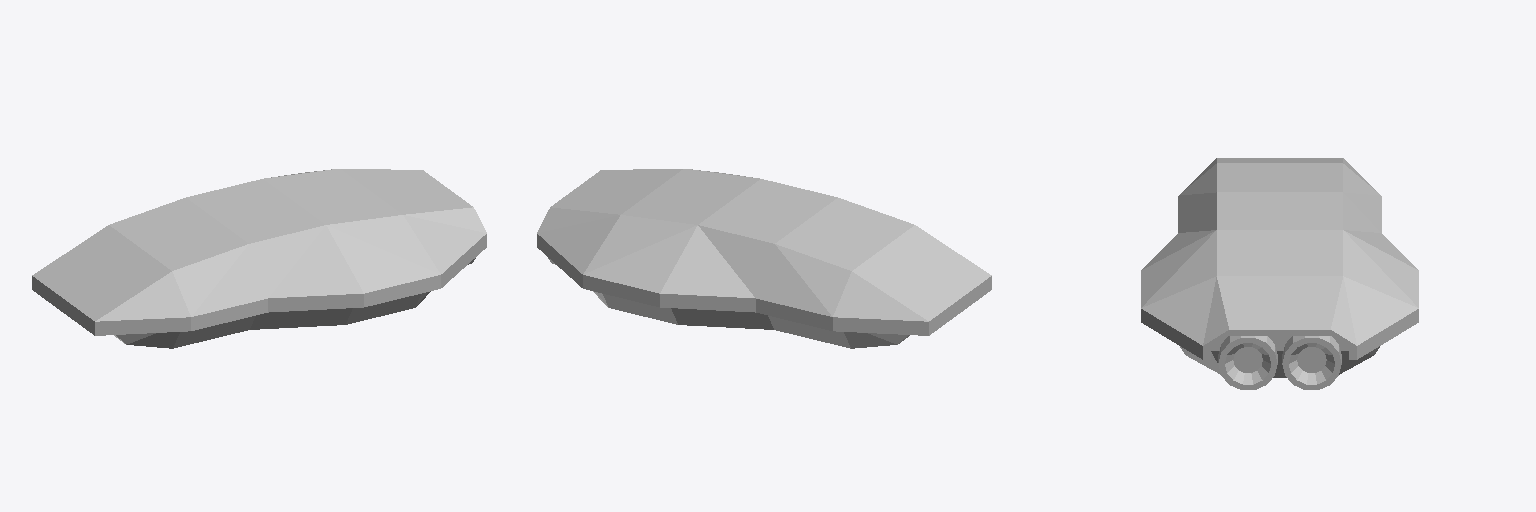
Rendered from space_tug.obj.
3 views of the same model, side by side, from view 1: azimuth 30°, elevation 25°; view 2: azimuth 150°, elevation 25°; view 3: azimuth 270°, elevation 25° (orthographic).
Parts seen in each view (by area): view 1: space_cruiser_4; view 2: space_cruiser_4; view 3: space_cruiser_4.
Part boxes in pixels (left/top/right/bottom): space_cruiser_4: left=32, top=169, right=486, bottom=348; space_cruiser_4: left=537, top=169, right=991, bottom=348; space_cruiser_4: left=1141, top=158, right=1418, bottom=389.
Bounding box in the file's own units: 29.88 × 6.63 × 18.71.